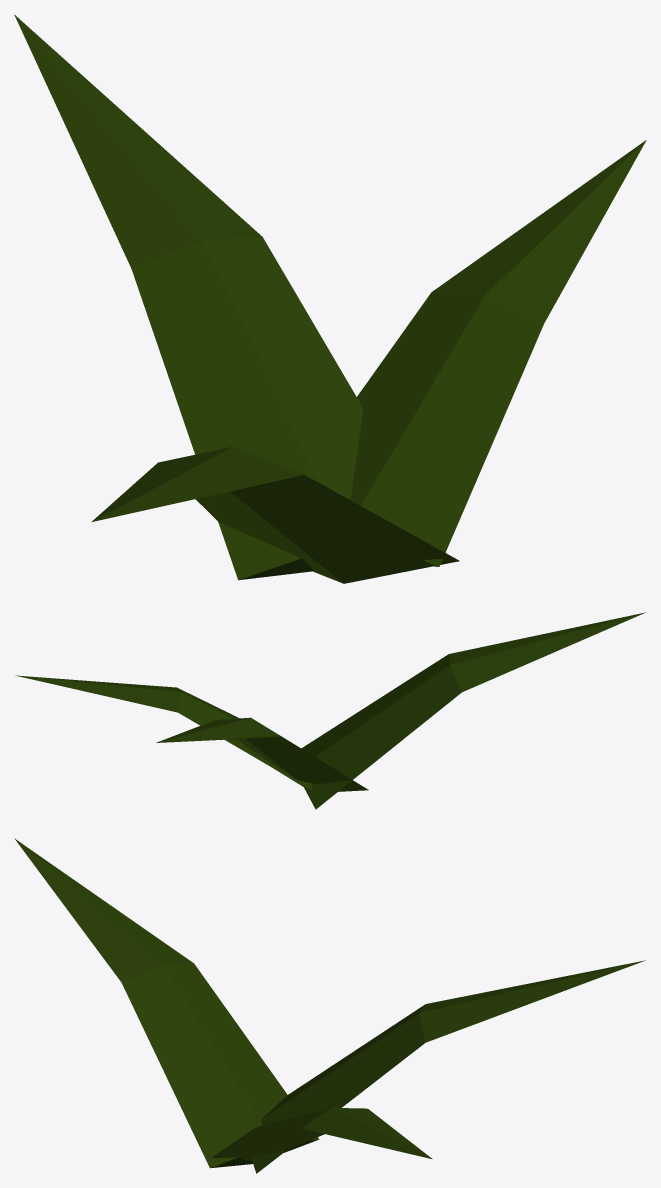
File: sprout.glb
3 renders of one model, top to bottom at view 1: azimuth 30°, elevation 25°; view 2: azimuth 150°, elevation 25°; view 3: azimuth 270°, elevation 25°, orthographic. The views are drawn at different scales.
Parts seen in each view (by area): view 1: Alo1; view 2: Alo1; view 3: Alo1.
Boxes of the visible parts, left/top/right/bottom form: Alo1: left=14, top=14, right=646, bottom=583; Alo1: left=14, top=612, right=645, bottom=809; Alo1: left=14, top=838, right=645, bottom=1173.
Bounding box in the file's own units: 44.19 × 15.63 × 44.39.
